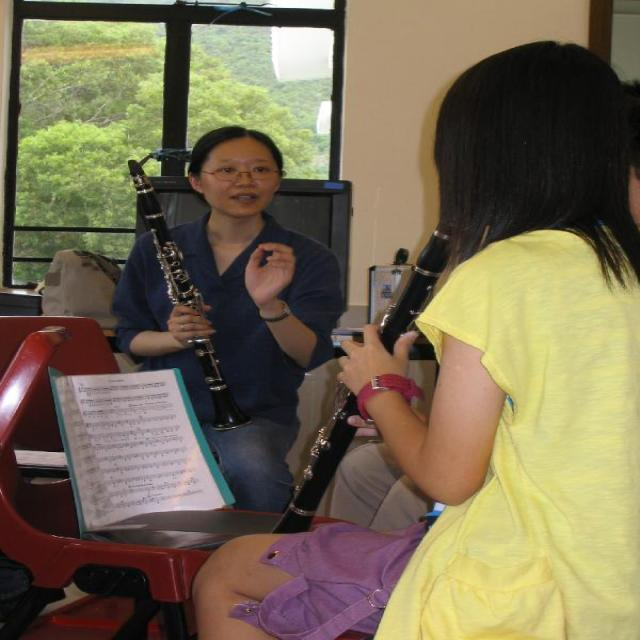clarinet: (273, 187, 486, 535), (122, 158, 257, 431)
